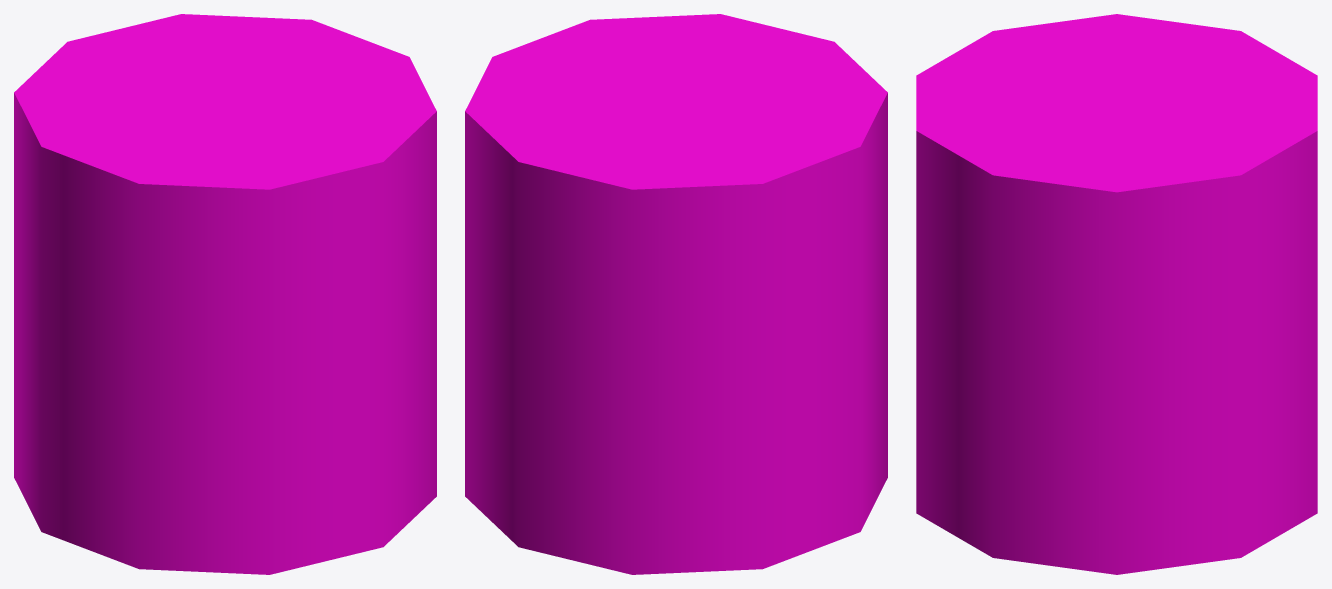
3 renders of one model, left to right at view 1: azimuth 30°, elevation 25°; view 2: azimuth 150°, elevation 25°; view 3: azimuth 270°, elevation 25°, orthographic.
Visible parts, largest first — view 1: Cylinder; view 2: Cylinder; view 3: Cylinder.
Part boxes in pixels (x1,y1,x2,y2): Cylinder: (14, 14, 436, 574); Cylinder: (465, 14, 887, 574); Cylinder: (916, 14, 1317, 574).
Bounding box in the file's own units: 0.1 × 0.1 × 0.0951.
